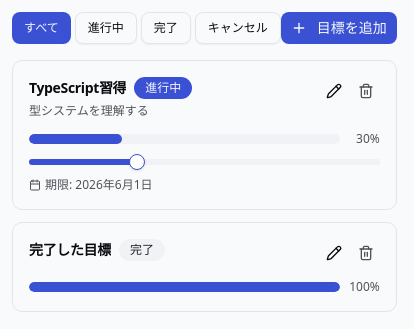
GoalList › 進行中フィルタで進行中の目標のみ表示される
Click the button "進行中" at coordinates (106, 28), box [75,12,137,44]
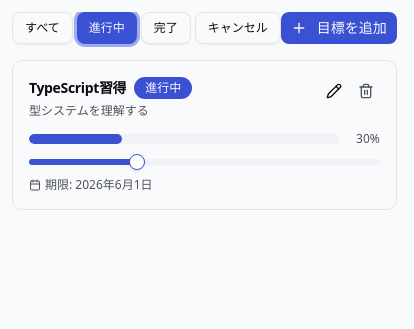
Expected: the heading "TypeScript習得" is shown, [29,78,126,98]
Result: the heading "完了した目標" is gone
